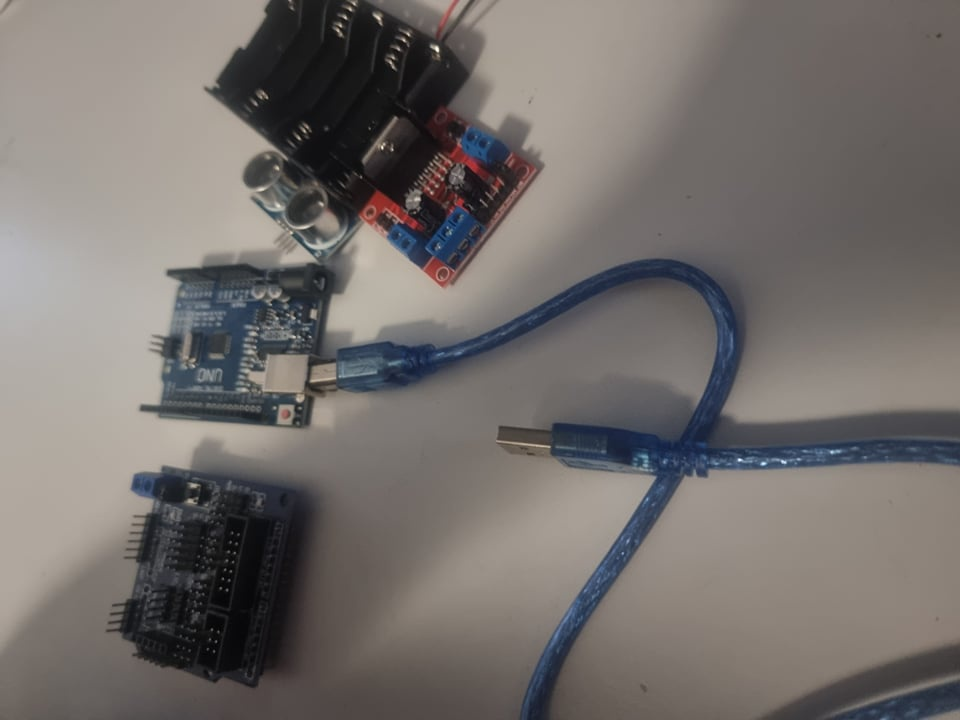5V EXPANSION: (99, 466, 306, 690)
MOTOR: (199, 3, 466, 178), (345, 106, 539, 291)
SENSOR: (242, 142, 342, 258)
UNO R3: (134, 249, 324, 431)
